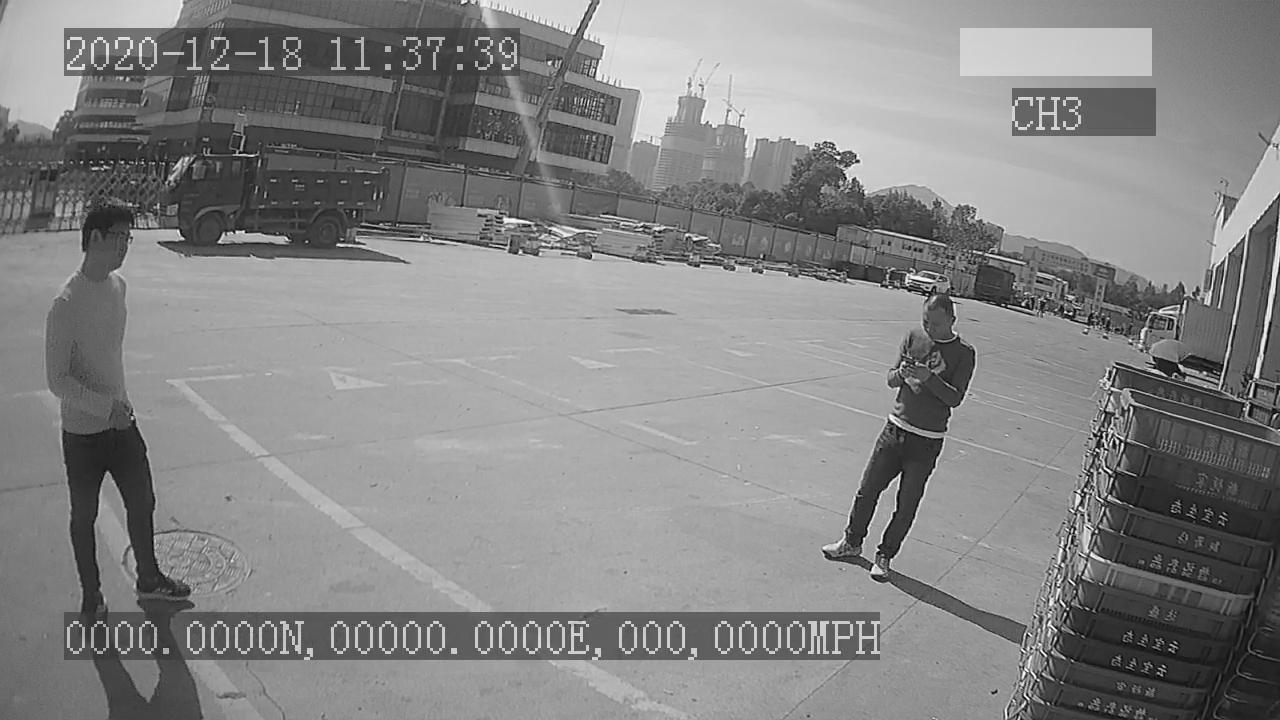person: (818, 291, 979, 581)
